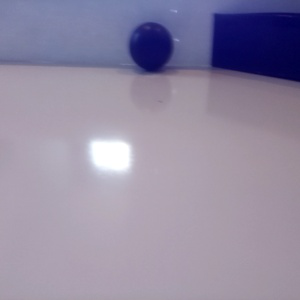zone: (211, 12, 300, 83)
